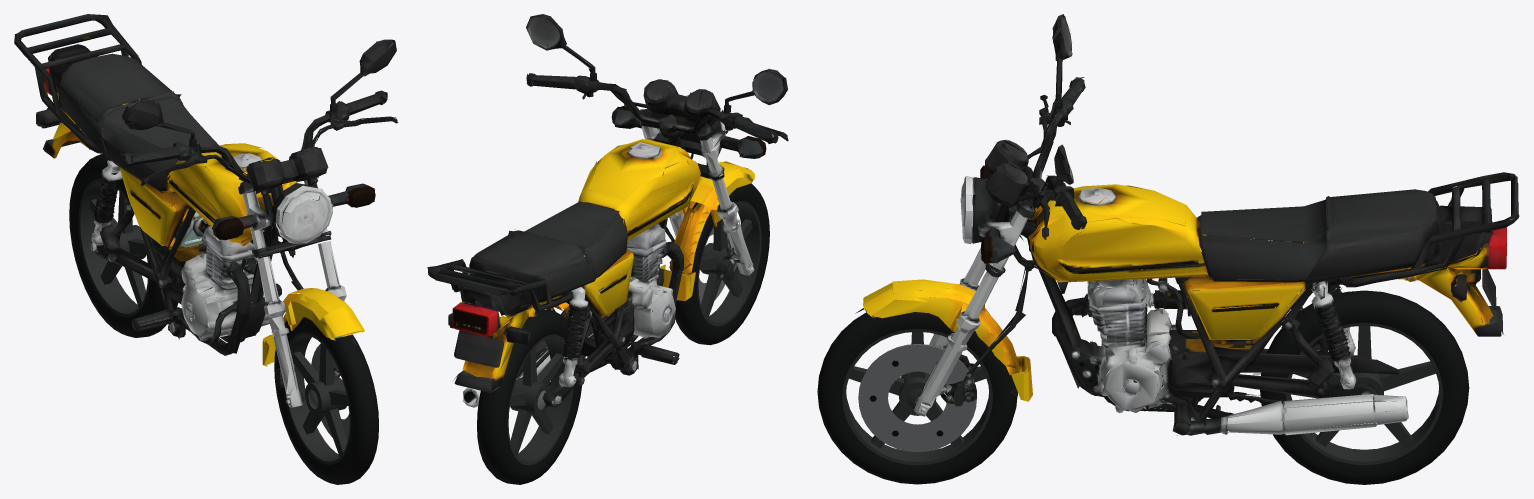
Rendered from moto-2.glb.
The picture shows the model from 3 angles, left to right: view 1: azimuth 30°, elevation 25°; view 2: azimuth 150°, elevation 25°; view 3: azimuth 270°, elevation 25°; orthographic projection. The views are drawn at different scales.
Visible parts, largest first — view 1: Frota_moto, Fork, Tyre_Front, Tyre_Rear; view 2: Frota_moto, Fork, Tyre_Rear, Tyre_Front; view 3: Frota_moto, Fork, Tyre_Front, Tyre_Rear.
Boxes of the visible parts, x1,y1,x2,y2 form: Frota_moto: (14,14,297,355); Fork: (120,39,398,407); Tyre_Front: (274,317,378,484); Tyre_Rear: (69,153,178,337); Frota_moto: (427,117,700,407); Fork: (526,14,788,301); Tyre_Rear: (477,310,582,484); Tyre_Front: (675,183,769,345); Frota_moto: (1013,169,1519,435); Fork: (855,14,1087,416); Tyre_Front: (817,312,1017,484); Tyre_Rear: (1260,290,1469,484).
Size of the model in its own units: 1.03 by 1.29 by 2.06.
Materials: 1 (1 with a texture image).
